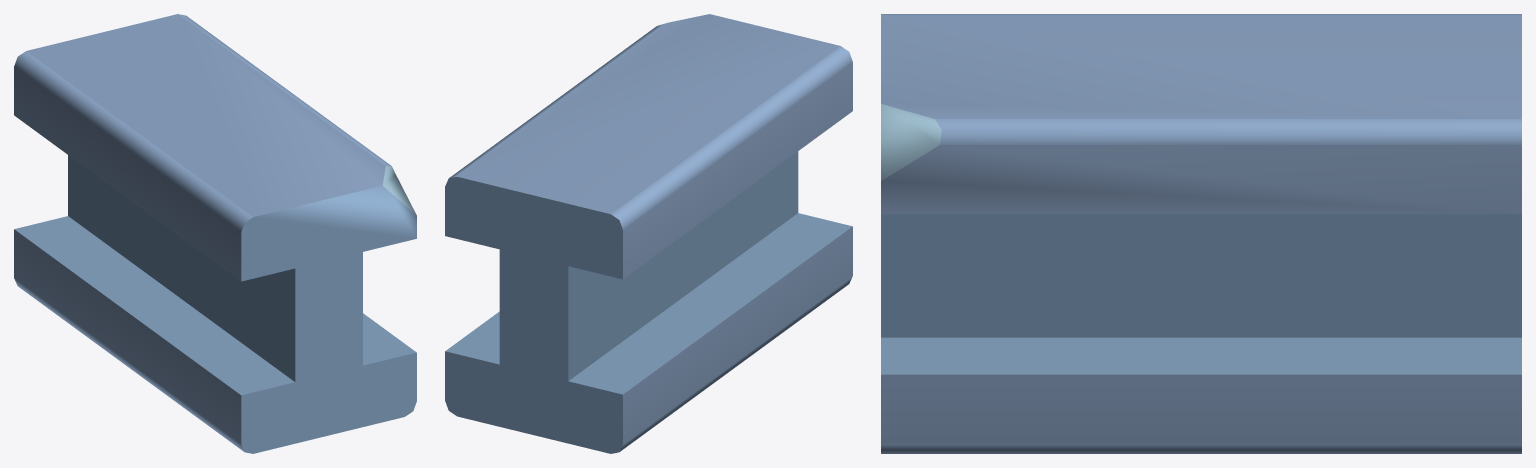
Rendered from Beam.fbx.
3 views of the same model, side by side, from view 1: azimuth 30°, elevation 25°; view 2: azimuth 150°, elevation 25°; view 3: azimuth 270°, elevation 25° (orthographic). The views are drawn at different scales.
Parts seen in each view (by area): view 1: Cube.024; view 2: Cube.024; view 3: Cube.024.
Part boxes in pixels (x1,y1,x2,y2): Cube.024: (14,14,416,453); Cube.024: (445,14,852,453); Cube.024: (881,14,1521,453).
Bounding box in the file's own units: 21.36 × 27.52 × 47.84.
